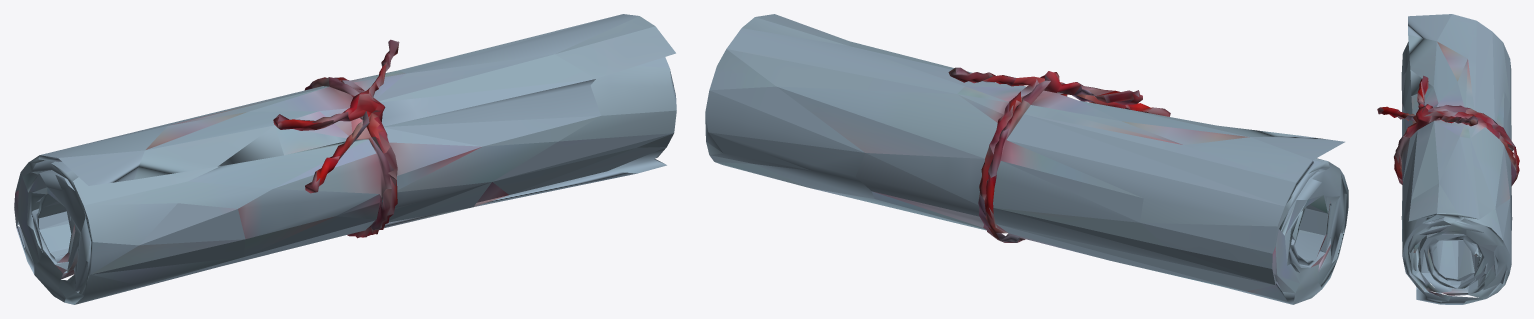
Rendered from token_blueprint_v1.glb.
3 renders of one model, left to right at view 1: azimuth 30°, elevation 25°; view 2: azimuth 150°, elevation 25°; view 3: azimuth 270°, elevation 25°, orthographic. The views are drawn at different scales.
Visible parts, largest first — view 1: mesh_node; view 2: mesh_node; view 3: mesh_node.
Boxes of the visible parts, box(x1,y1,x2,y2) form: mesh_node: box(14, 14, 676, 304); mesh_node: box(705, 14, 1348, 304); mesh_node: box(1377, 14, 1519, 304).
Bounding box in the file's own units: 0.9897 × 0.2701 × 0.301.
1 material, 1 textured.
